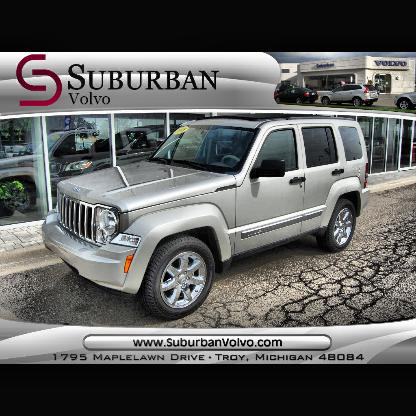Jeep Liberty SUV 2012: (42, 118, 371, 319)
